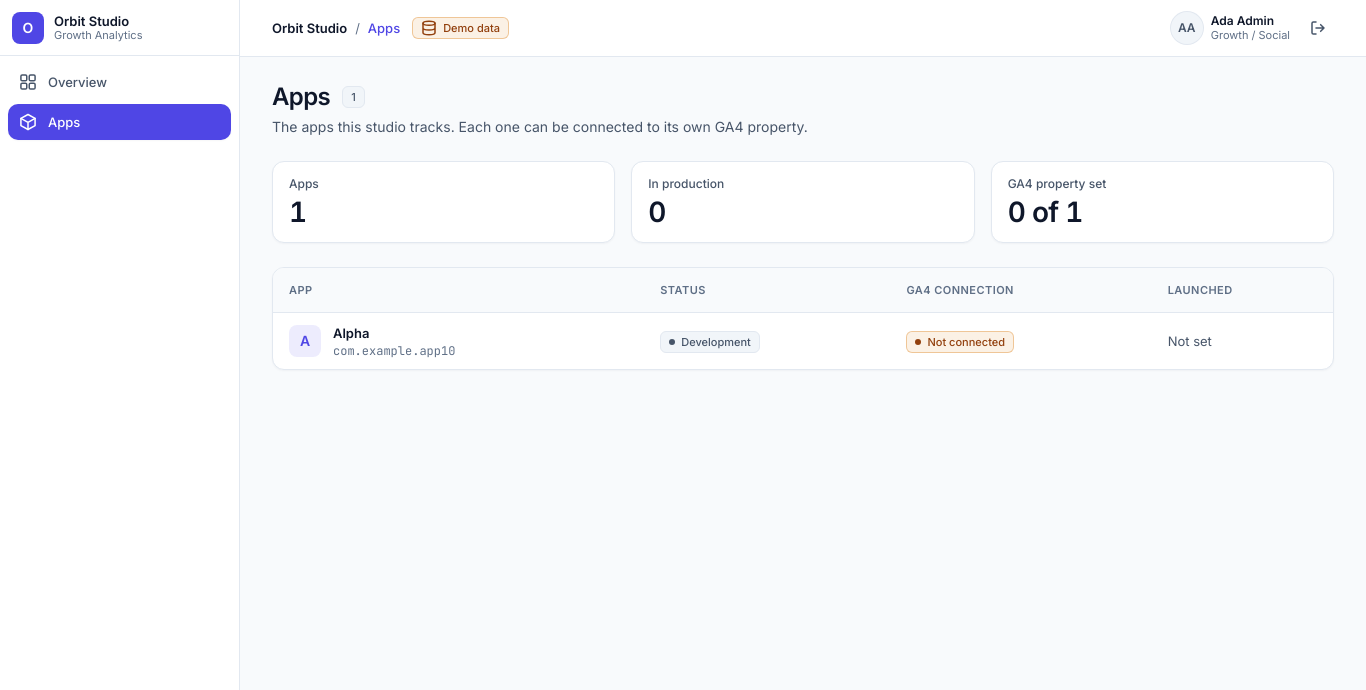
Test case: App routing › opens one app from the Apps list, with the date range and its numbers
The image size is (1366, 690).
Click the link "Alpha": [351, 333] box [333,323,369,343]
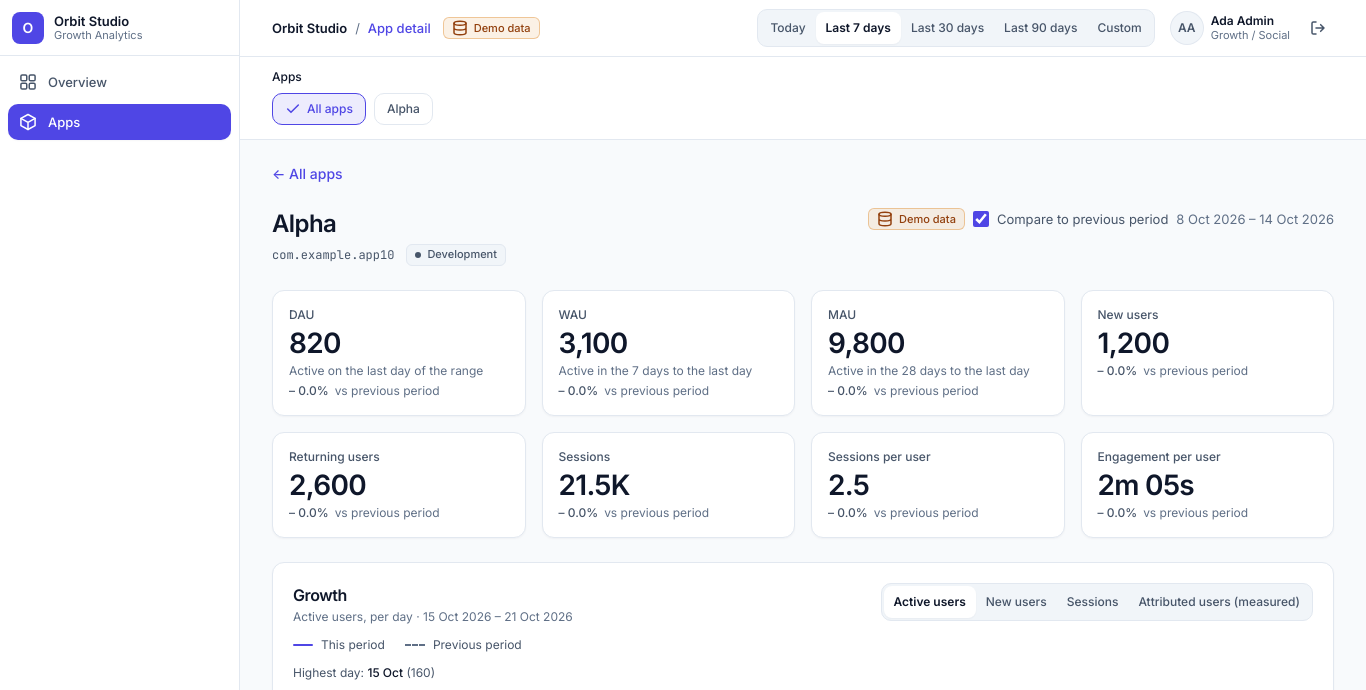
Expected: the heading "Alpha" is shown, [272,208,336,240]
Expected: the element named "Date range" is shown, [758,9,1155,47]
Expected: the heading "DAU" is shown, [289,307,314,323]
